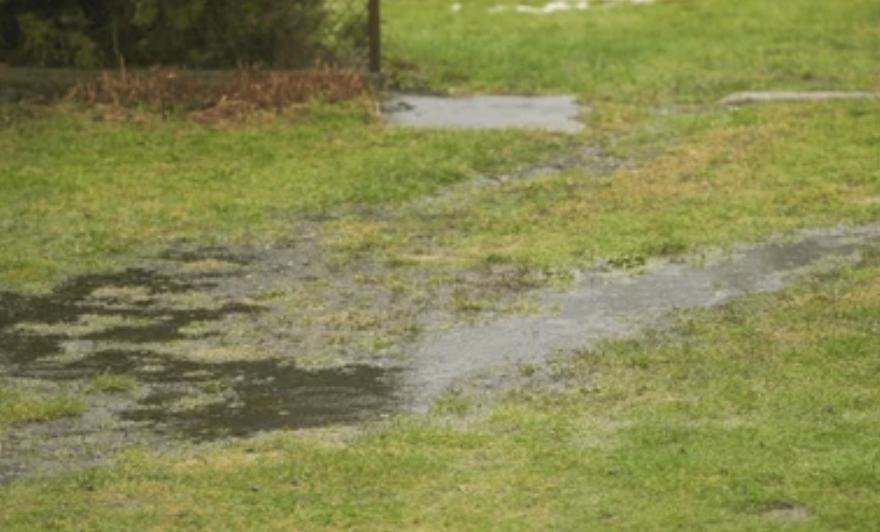water accumulation: (0, 147, 880, 477)
